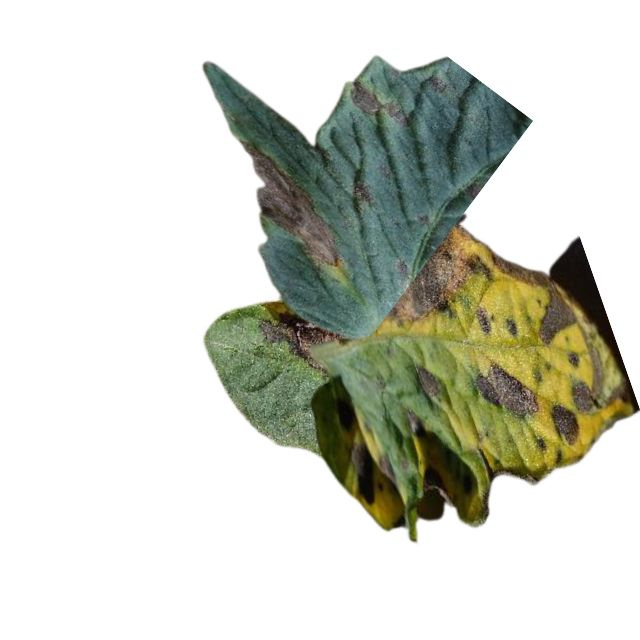Early_blight: (240, 140, 341, 268), (394, 223, 492, 336), (493, 248, 578, 346), (260, 309, 346, 372), (475, 358, 539, 418), (345, 80, 404, 130), (351, 442, 380, 506), (572, 376, 606, 414), (551, 404, 580, 445), (418, 364, 443, 395), (349, 175, 375, 203), (428, 70, 450, 93), (566, 349, 583, 369)
